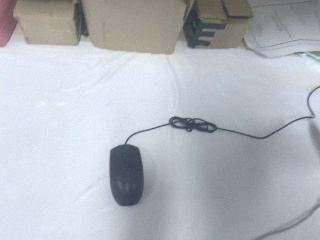box: (76, 1, 194, 55), (183, 1, 254, 49), (14, 1, 83, 48)
mouse: (108, 144, 146, 206)
